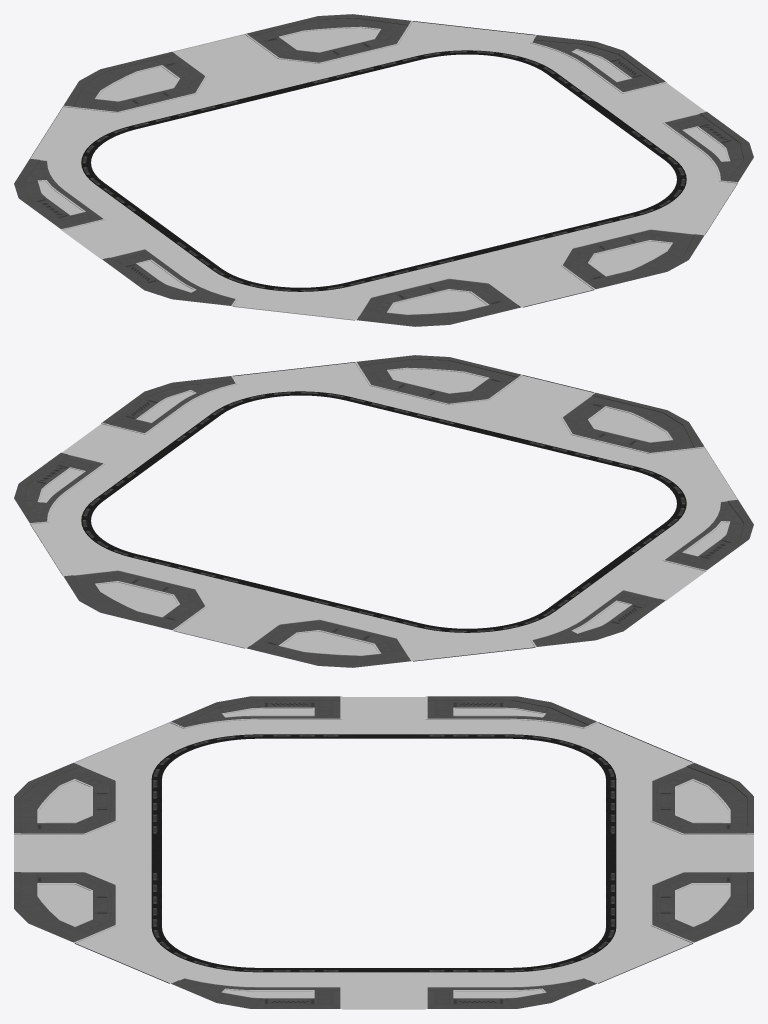
The model's file is GymFloor.fbx.
3 renders of one model, top to bottom at view 1: azimuth 30°, elevation 25°; view 2: azimuth 150°, elevation 25°; view 3: azimuth 270°, elevation 25°, orthographic. The views are drawn at different scales.
Parts seen in each view (by area): view 1: GymFloorA001; view 2: GymFloorA001; view 3: GymFloorA001.
Boxes of the visible parts, box(x1,y1,x2,y2) form: GymFloorA001: box(14, 14, 753, 326); GymFloorA001: box(14, 355, 753, 667); GymFloorA001: box(14, 696, 753, 1009).
Size of the model in its own units: 4000 by 5.82 by 4000.
